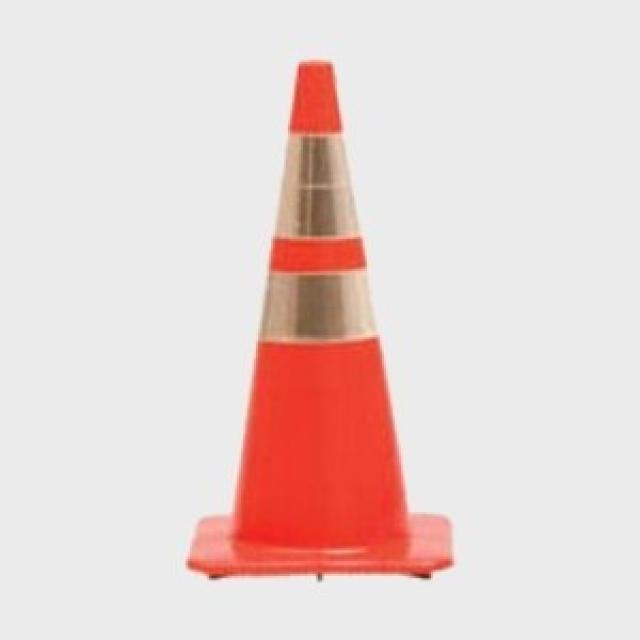cone: (182, 56, 455, 584)
